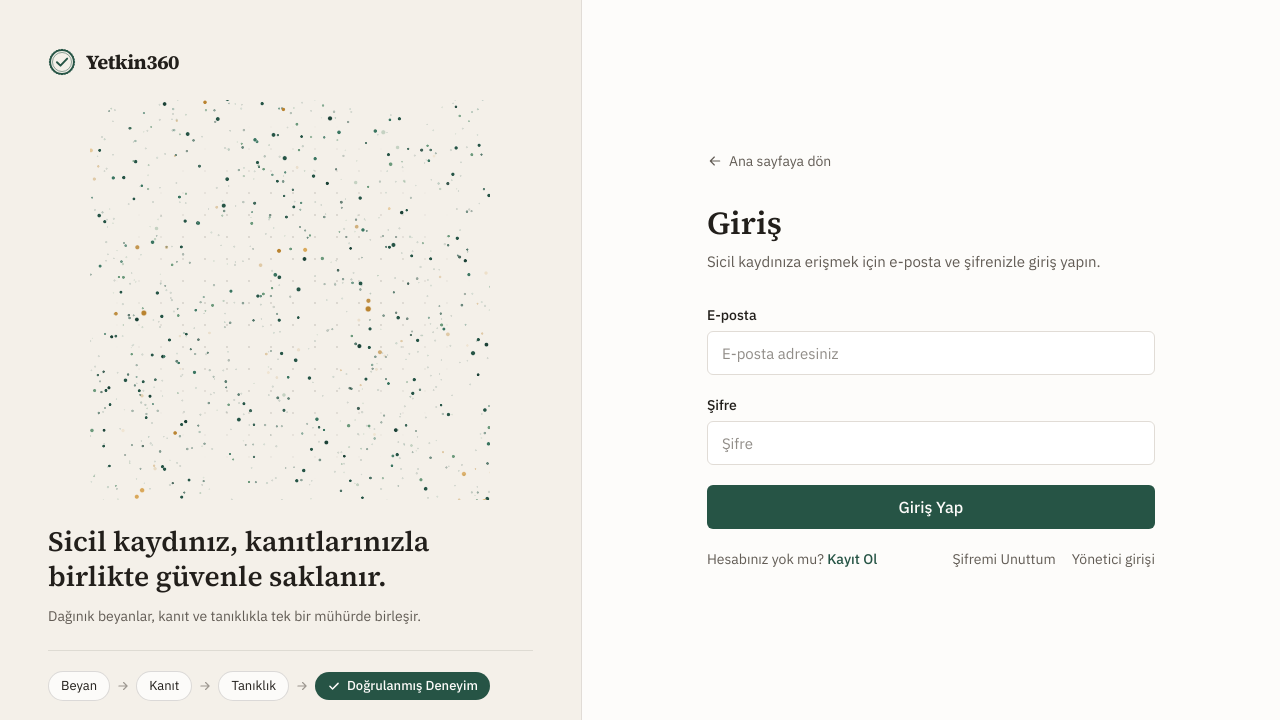
it: LoginPage (giris/page.tsx) — Form Gerçek İmplementasyon › AC-4: Giriş — 423 ACCOUNT_LOCKED (401'den FARKLI mesaj) › AC-4: 423 ACCOUNT_LOCKED → 'Hesabınız geçici olarak kilitlendi' mesajı
Type "locked@example.com" into the field with placeholder "E-posta adresiniz" at point(931, 353), box [707, 331, 1155, 375]
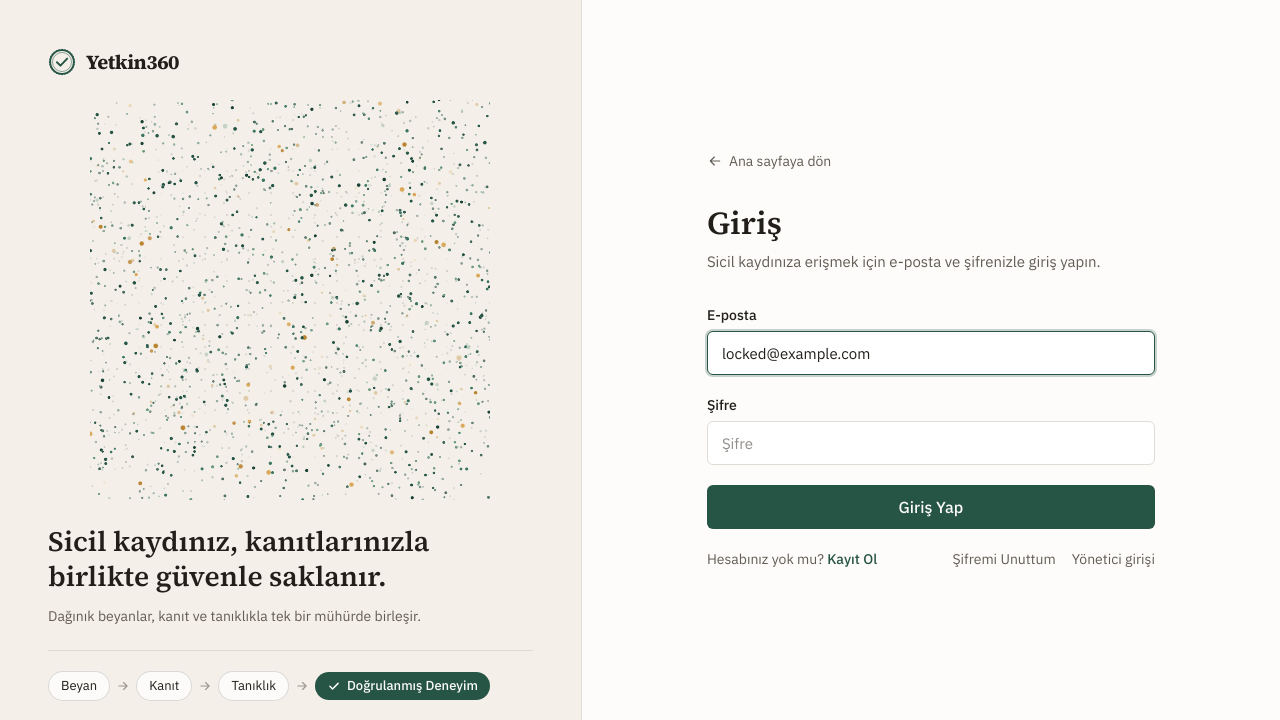
Type "password123" into the password field with placeholder "Şifre" at point(931, 443), box [707, 421, 1155, 465]
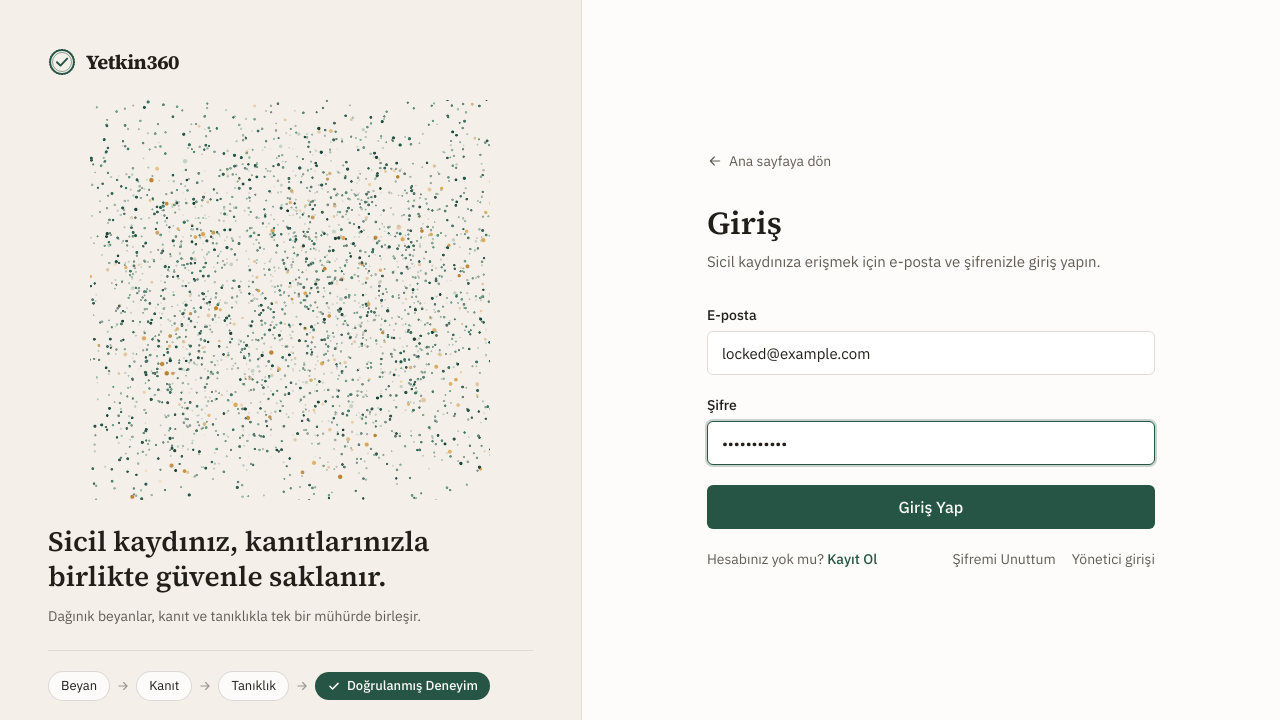
Click the button "Giriş Yap" at point(931, 507), box [707, 485, 1155, 529]
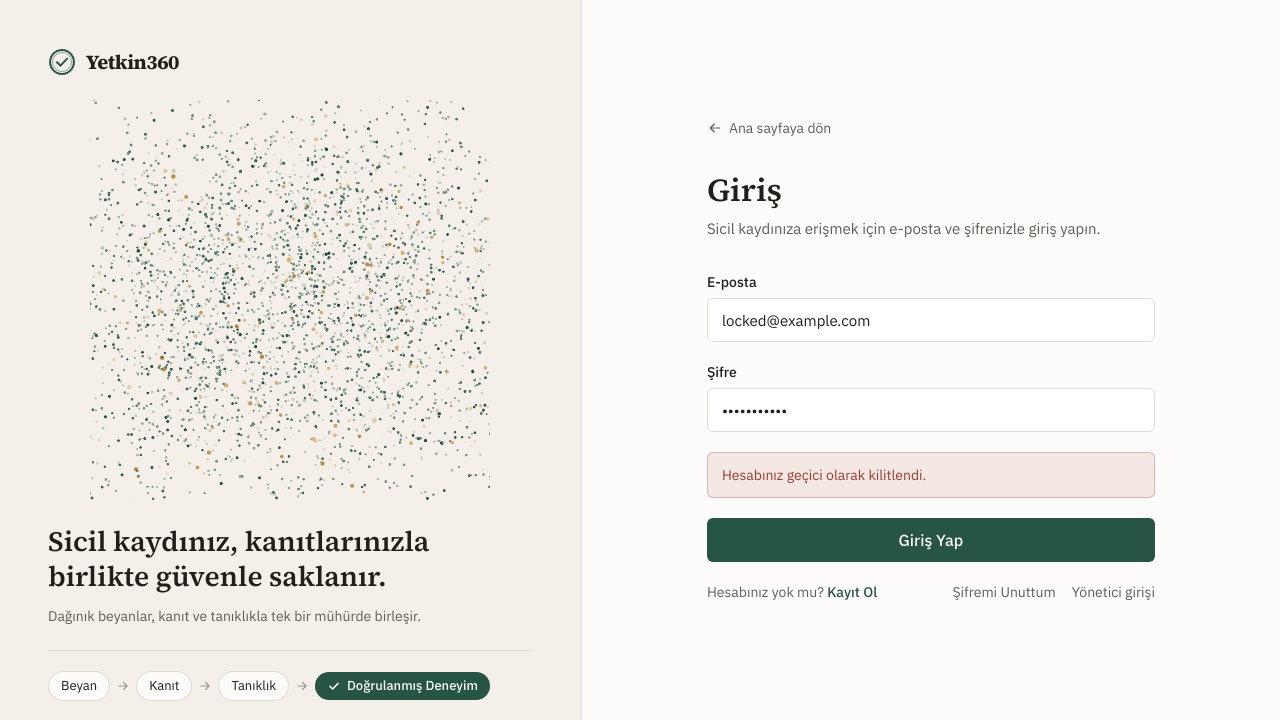
Now the text "Hesabınız geçici olarak kilitlendi." is shown, box [707, 452, 1155, 498]
